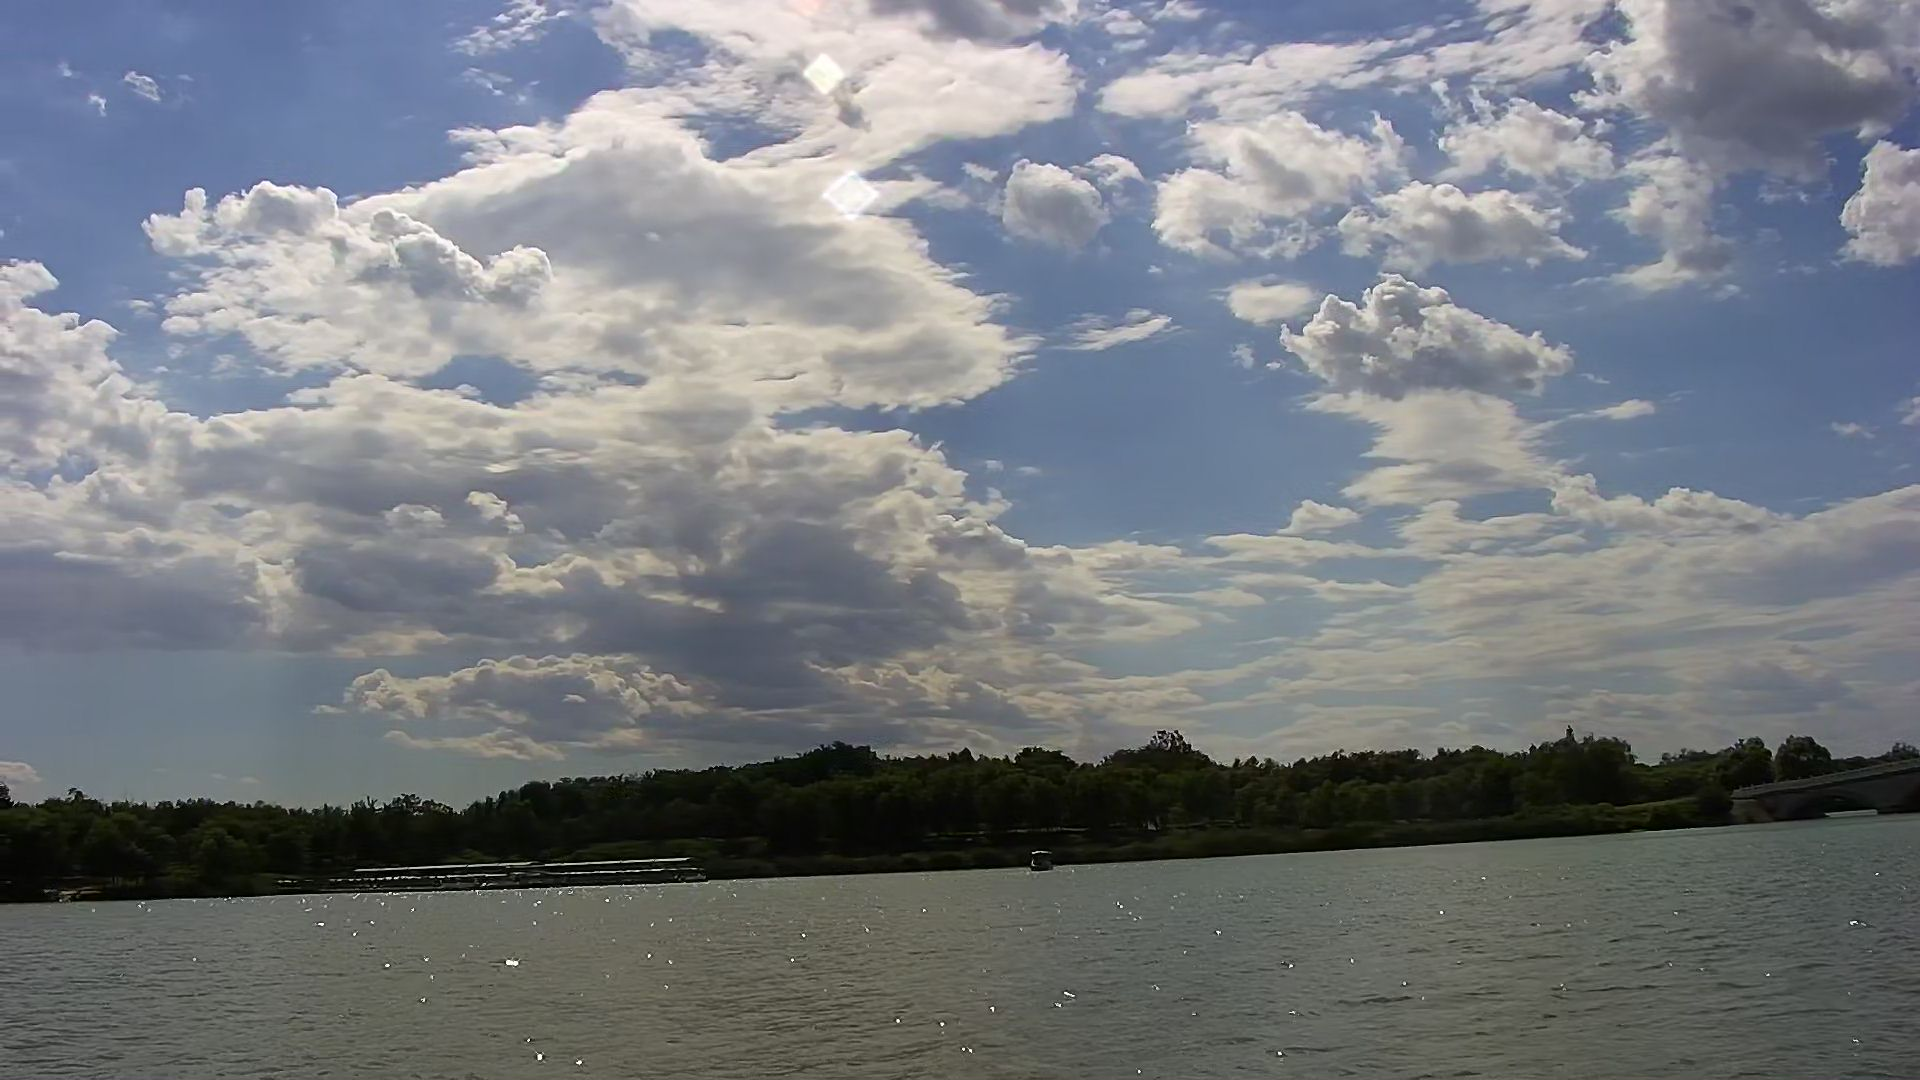boat: (1029, 848, 1048, 872)
bridge: (1753, 753, 1920, 822)
harbor: (360, 857, 694, 889)
